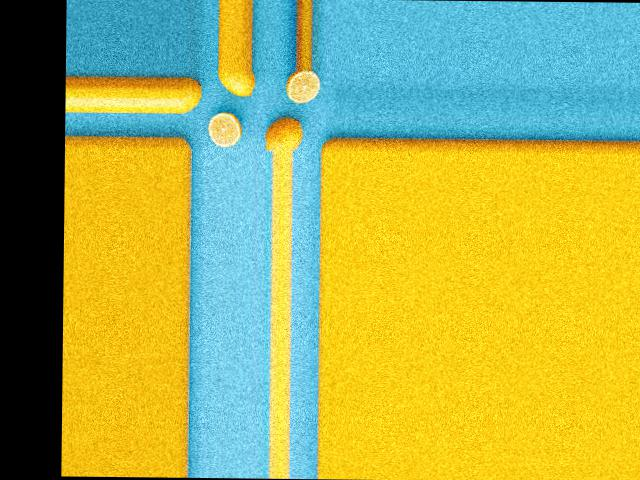lemon: (180, 80, 204, 116)
